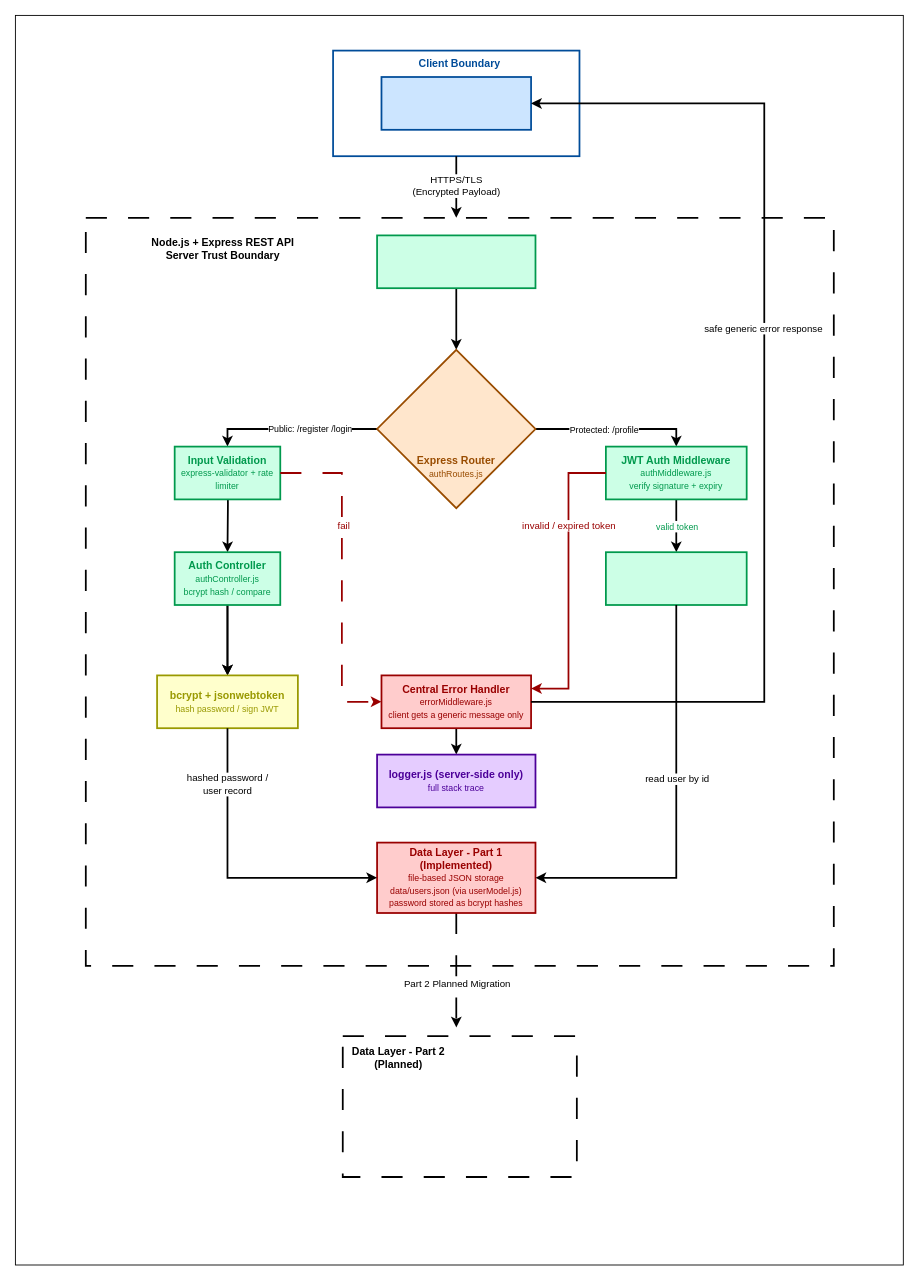
The diagram is 919 pixels wide and 1280 high, and some of its shapes have lost their labels. Each missing label, with the box of its shape:
Client Browser / Postman MERN: MongoDB, Express, React, Node.js: (380, 76, 532, 130)
Global Middleware: Helmet, CORS (Applied to every route): (376, 234, 536, 289)
MongoDB Atlas (encrypted at rest) Mongoose models replace userModel.js: (341, 1035, 577, 1177)
Profile Controller getProfile() return safe user data: (605, 551, 747, 605)
